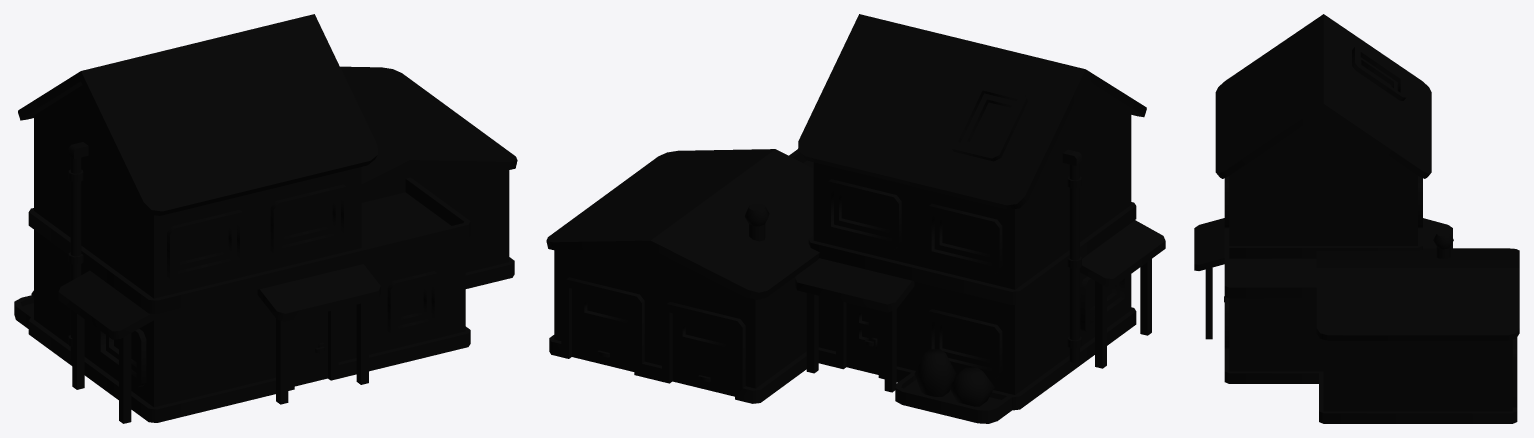
The model's file is building-type-n.glb.
3 views of the same model, side by side, from view 1: azimuth 30°, elevation 25°; view 2: azimuth 150°, elevation 25°; view 3: azimuth 270°, elevation 25° (orthographic). The views are drawn at different scales.
Visible parts, largest first — view 1: building-type-n; view 2: building-type-n; view 3: building-type-n.
Boxes of the visible parts, x1,y1,x2,y2 form: building-type-n: (14,14,517,423); building-type-n: (546,14,1165,423); building-type-n: (1194,14,1519,423).
Size of the model in its own units: 1.78 by 1.14 by 1.38.
1 material, 1 textured.
